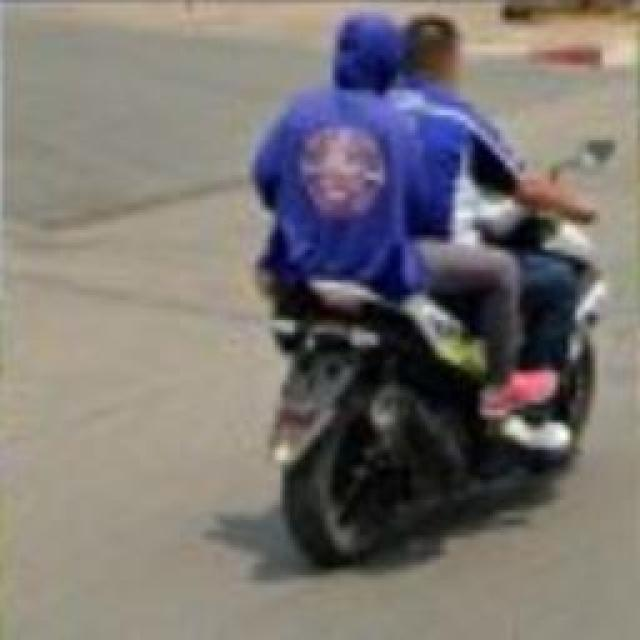motorbike: (245, 16, 605, 572)
